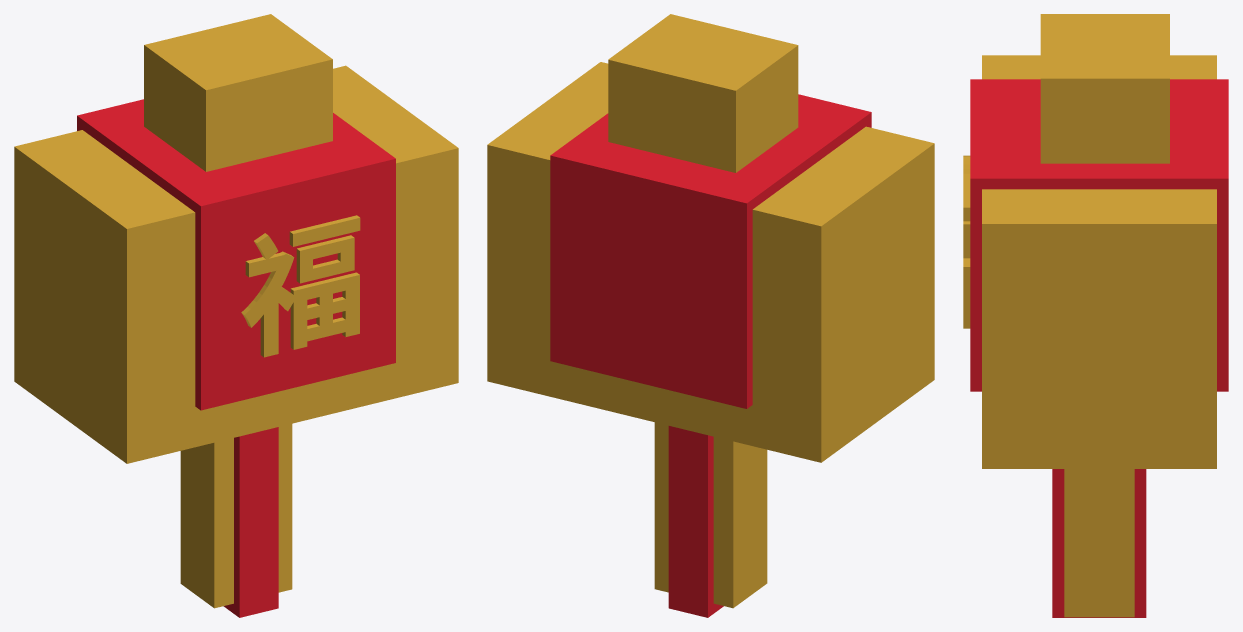
The model's file is koduti.obj.
3 views of the same model, side by side, from view 1: azimuth 30°, elevation 25°; view 2: azimuth 150°, elevation 25°; view 3: azimuth 270°, elevation 25° (orthographic). The views are drawn at different scales.
Visible parts, largest first — view 1: group_0_14789940, group_0_15277357; view 2: group_0_14789940, group_0_15277357; view 3: group_0_14789940, group_0_15277357.
Part boxes in pixels (box(x1,y1,x2,y2)): group_0_14789940: box(14, 14, 458, 608); group_0_15277357: box(77, 99, 395, 617); group_0_14789940: box(487, 14, 934, 608); group_0_15277357: box(550, 94, 871, 617); group_0_14789940: box(963, 14, 1216, 617); group_0_15277357: box(970, 79, 1228, 617).
Bounding box in the file's own units: 34 × 53 × 22.59.
